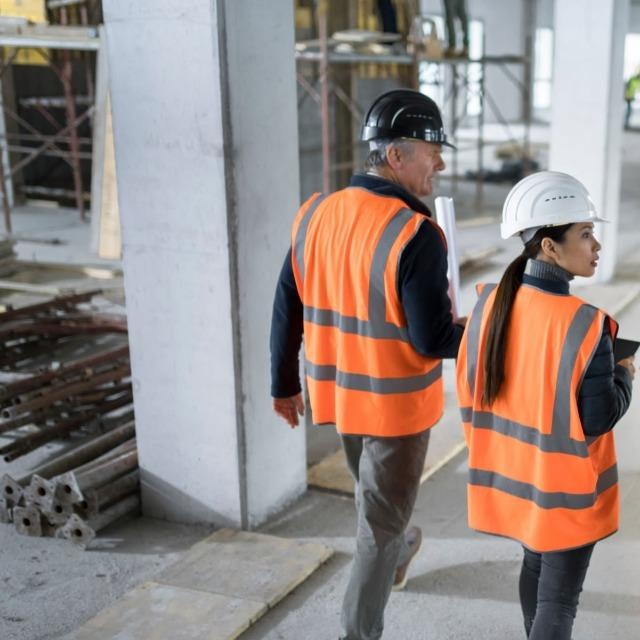Con_Casco: (501, 171, 611, 281)
Con_Chaleco: (462, 282, 619, 546), (297, 188, 445, 438)
